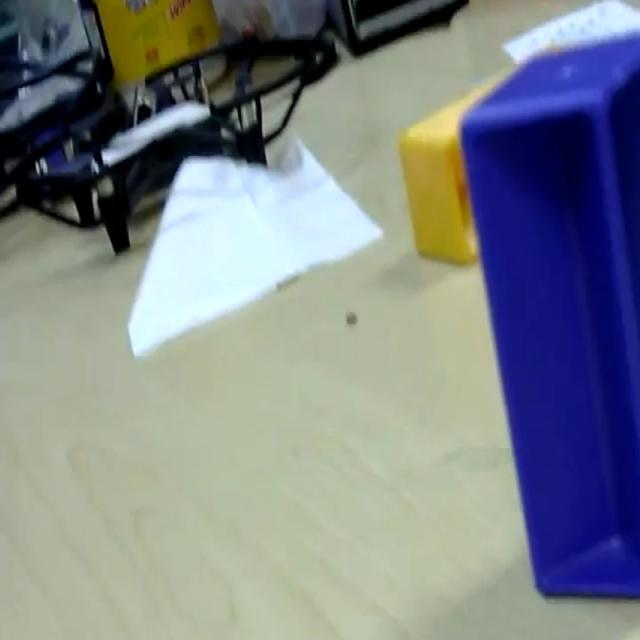blue_block: (458, 22, 638, 598)
